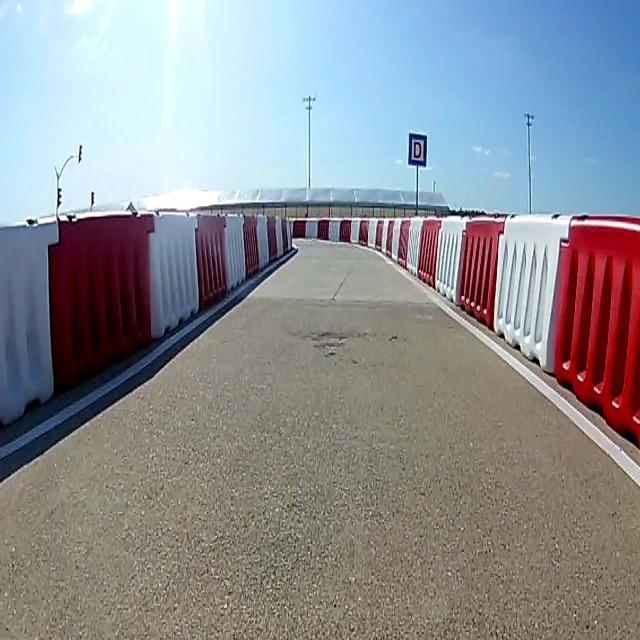durak: (408, 131, 427, 166)
